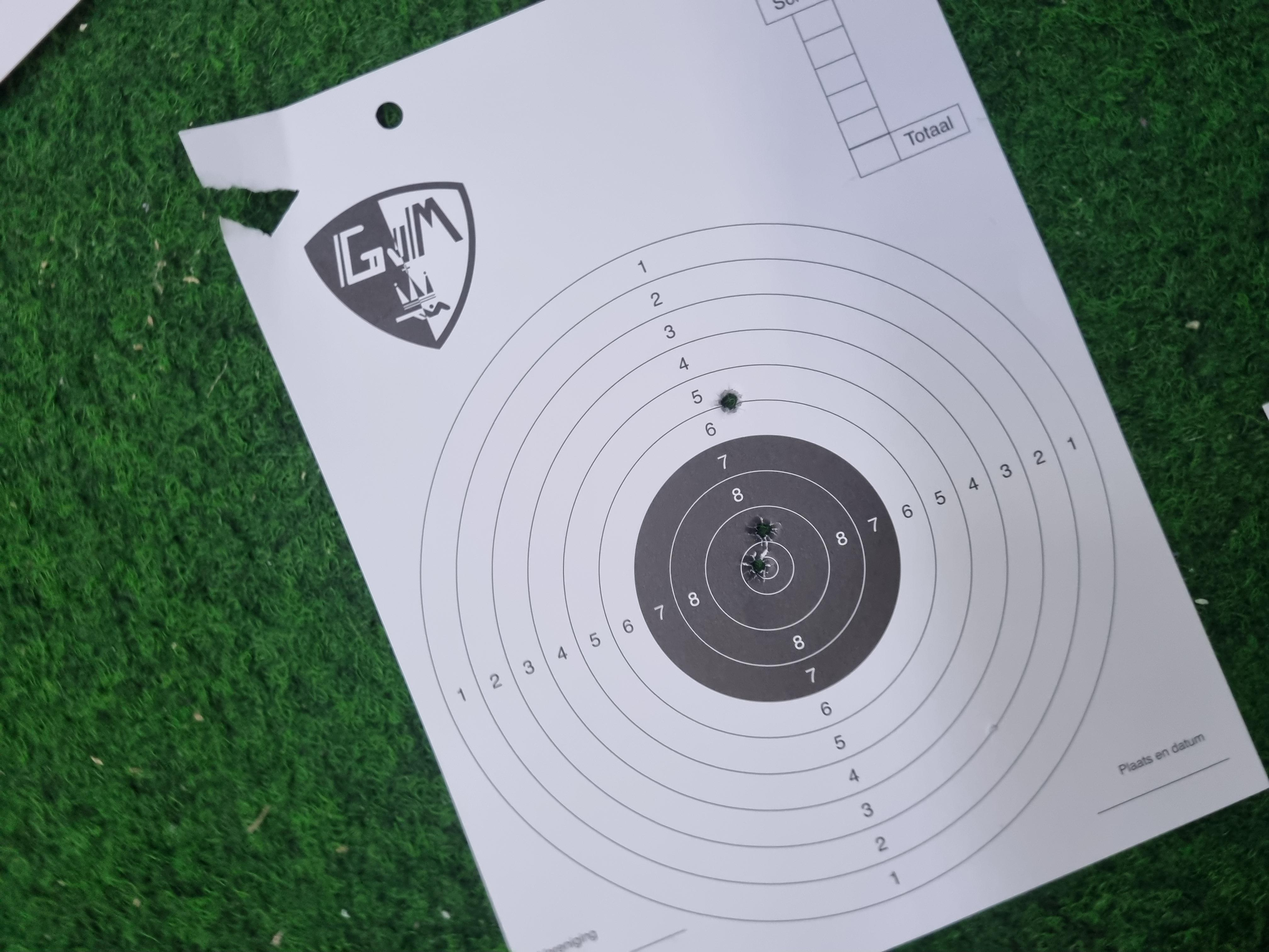hole: (542, 559, 582, 586), (491, 557, 536, 578), (717, 535, 751, 557)
